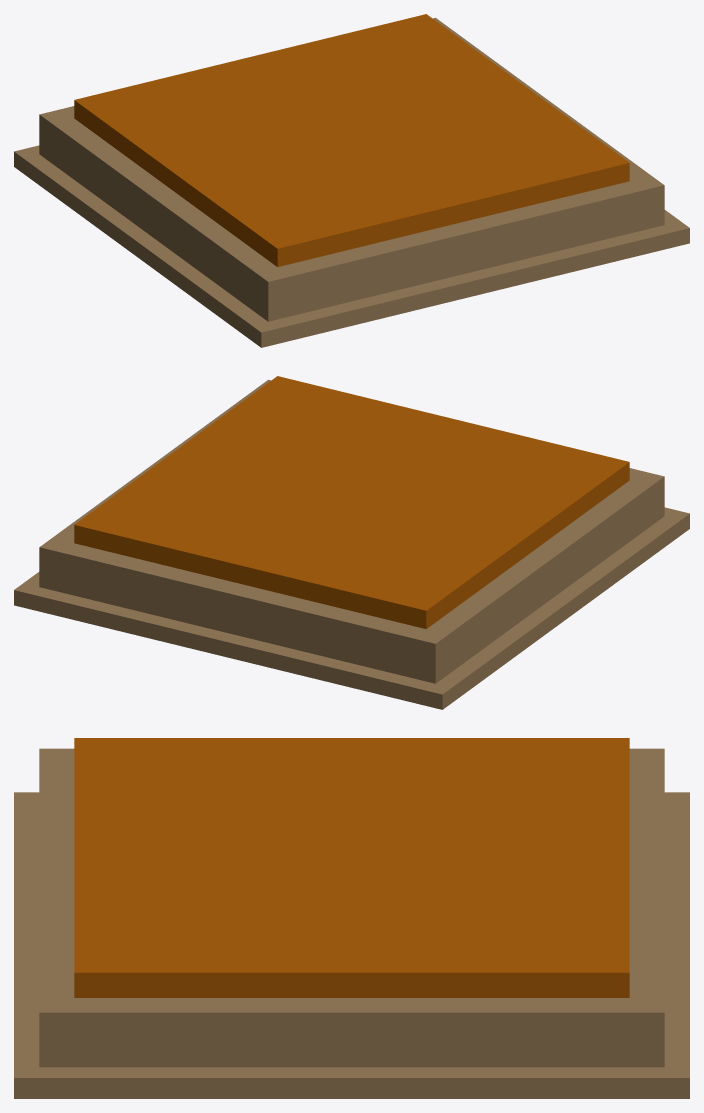
Rendered from square-peetha.glb.
The picture shows the model from 3 angles, top to bottom: view 1: azimuth 30°, elevation 25°; view 2: azimuth 150°, elevation 25°; view 3: azimuth 270°, elevation 25°; orthographic projection. The views are drawn at different scales.
Visible parts, largest first — view 1: trim, stone; view 2: trim, stone; view 3: trim, stone.
Part boxes in pixels (left/top/right/bottom): trim: left=74, top=14, right=629, bottom=267; stone: left=14, top=17, right=689, bottom=347; trim: left=74, top=376, right=629, bottom=629; stone: left=14, top=379, right=689, bottom=709; trim: left=74, top=738, right=629, bottom=997; stone: left=14, top=748, right=689, bottom=1098.
Size of the model in its own units: 1.46 by 0.24 by 1.46.
